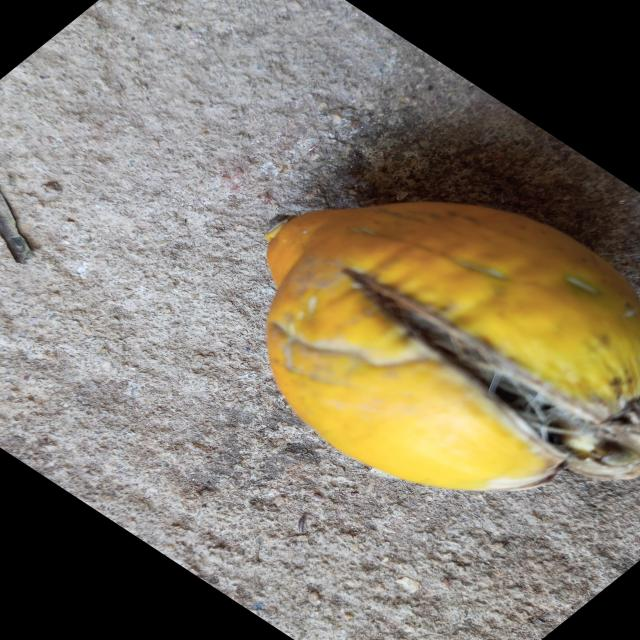damaged: (266, 202, 640, 491)
